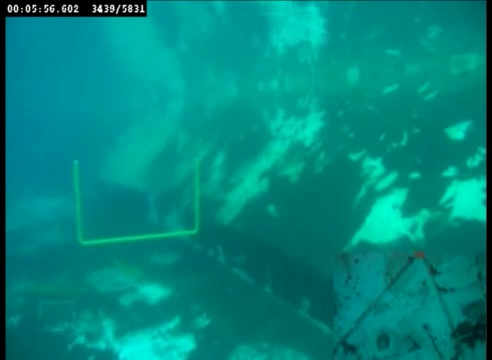channel: (68, 156, 205, 248)
